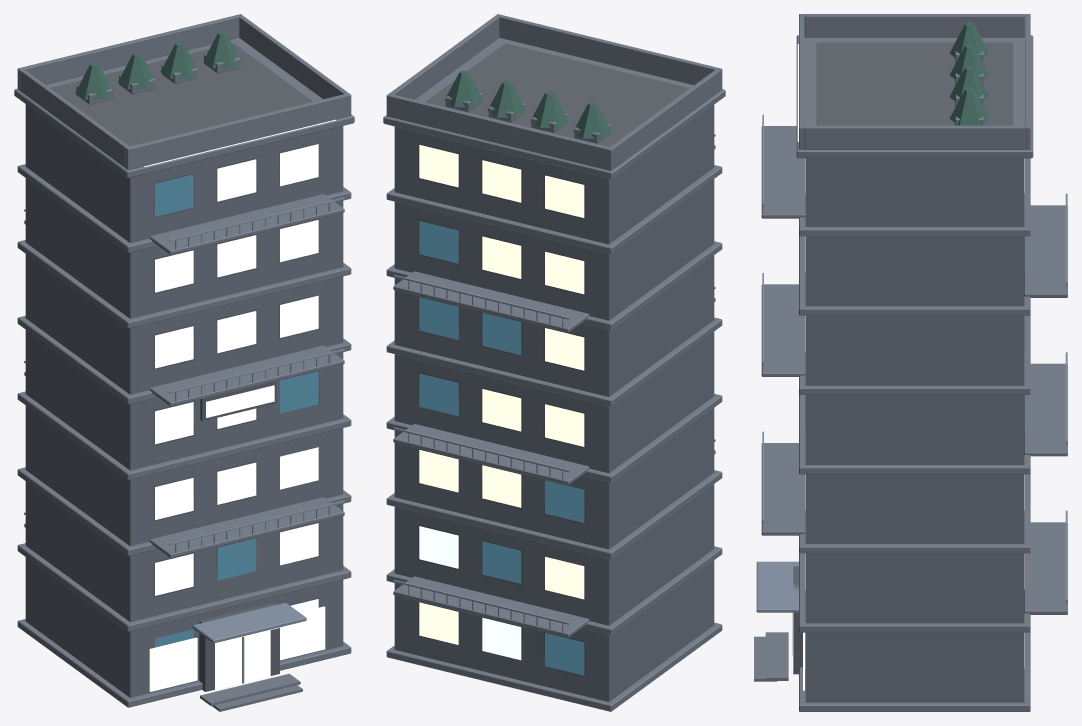
Rendered from residential_b.glb.
The picture shows the model from 3 angles, left to right: view 1: azimuth 30°, elevation 25°; view 2: azimuth 150°, elevation 25°; view 3: azimuth 270°, elevation 25°; orthographic projection. The views are drawn at different scales.
Parts seen in each view (by area): view 1: residential_b_Graphite@residential, residential_b_Concrete@residential, residential_b_WarmGlass, residential_b_Sidewalk, residential_b_DarkAlloy@residential, residential_b_Steel@residential, residential_b_BlackGlass, residential_b_Foliage, residential_b_CoolGlass, residential_b_SoftBlue; view 2: residential_b_Graphite@residential, residential_b_Concrete@residential, residential_b_WarmGlass, residential_b_Sidewalk, residential_b_BlackGlass, residential_b_DarkAlloy@residential, residential_b_Foliage, residential_b_CoolGlass, residential_b_Steel@residential; view 3: residential_b_Graphite@residential, residential_b_Concrete@residential, residential_b_Sidewalk, residential_b_Steel@residential, residential_b_Foliage, residential_b_DarkAlloy@residential, residential_b_WarmGlass.
Boxes of the visible parts, box(x1,y1,x2,y2) form: residential_b_Graphite@residential: box(25, 104, 343, 697); residential_b_Concrete@residential: box(14, 14, 354, 711); residential_b_WarmGlass: box(149, 144, 325, 691); residential_b_Sidewalk: box(50, 43, 312, 146); residential_b_DarkAlloy@residential: box(153, 142, 319, 691); residential_b_Steel@residential: box(24, 197, 344, 683); residential_b_BlackGlass: box(155, 174, 318, 647); residential_b_Foliage: box(75, 32, 241, 99); residential_b_CoolGlass: box(217, 408, 256, 504); residential_b_SoftBlue: box(144, 119, 335, 643); residential_b_Graphite@residential: box(394, 105, 714, 701); residential_b_Concrete@residential: box(383, 14, 725, 711); residential_b_WarmGlass: box(419, 145, 584, 644); residential_b_Sidewalk: box(425, 43, 689, 147); residential_b_BlackGlass: box(419, 221, 584, 675); residential_b_DarkAlloy@residential: box(418, 143, 585, 677); residential_b_Foliage: box(445, 70, 611, 138); residential_b_CoolGlass: box(419, 526, 521, 660); residential_b_Steel@residential: box(393, 134, 715, 632); residential_b_Graphite@residential: box(805, 158, 1024, 702); residential_b_Concrete@residential: box(754, 14, 1067, 711); residential_b_Sidewalk: box(816, 42, 1013, 125); residential_b_Steel@residential: box(756, 114, 1067, 655); residential_b_Foliage: box(949, 22, 989, 125); residential_b_DarkAlloy@residential: box(793, 566, 805, 674); residential_b_WarmGlass: box(792, 158, 1024, 690).
Bounding box in the file's own units: 10.7 × 25.9 × 12.2.
